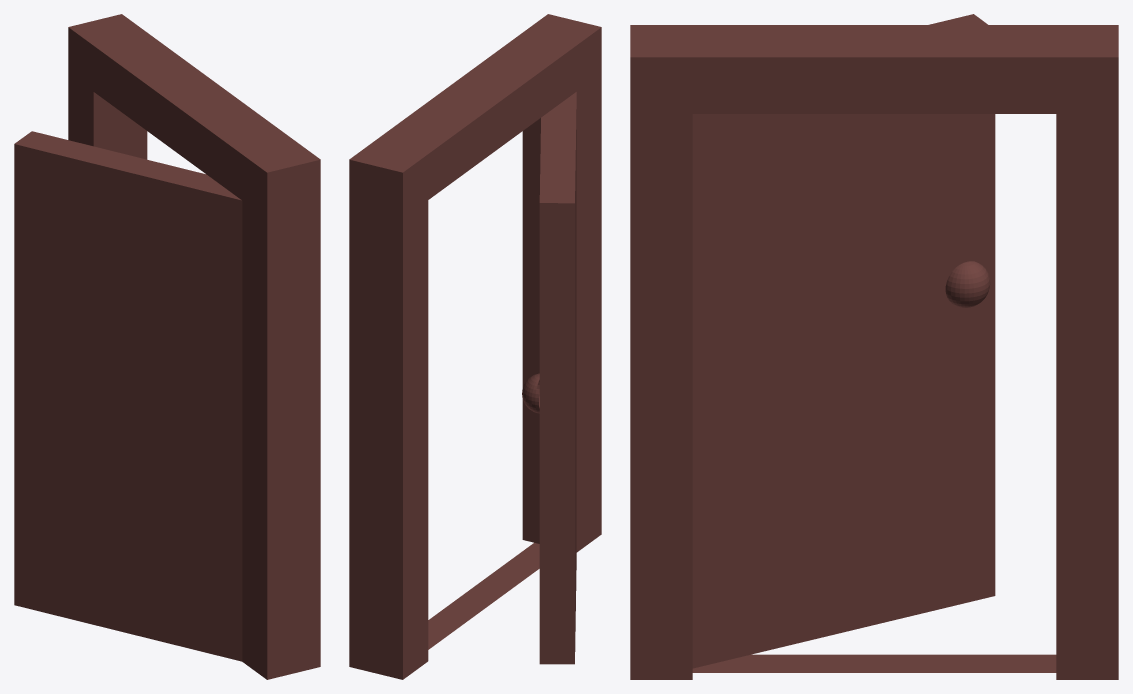
Rendered from ajtoAnimacio.fbx.
The picture shows the model from 3 angles, left to right: view 1: azimuth 30°, elevation 25°; view 2: azimuth 150°, elevation 25°; view 3: azimuth 270°, elevation 25°; orthographic projection. The views are drawn at different scales.
Parts seen in each view (by area): view 1: Plane.001, Plane; view 2: Plane, Plane.001; view 3: Plane.001, Plane.
Boxes of the visible parts, left/top/right/bottom form: Plane.001: left=14, top=131, right=242, bottom=661; Plane: left=68, top=14, right=320, bottom=679; Plane: left=349, top=14, right=601, bottom=679; Plane.001: left=522, top=92, right=576, bottom=664; Plane.001: left=692, top=14, right=995, bottom=668; Plane: left=630, top=25, right=1118, bottom=679.
Size of the model in its own units: 75.67 by 220 by 156.
